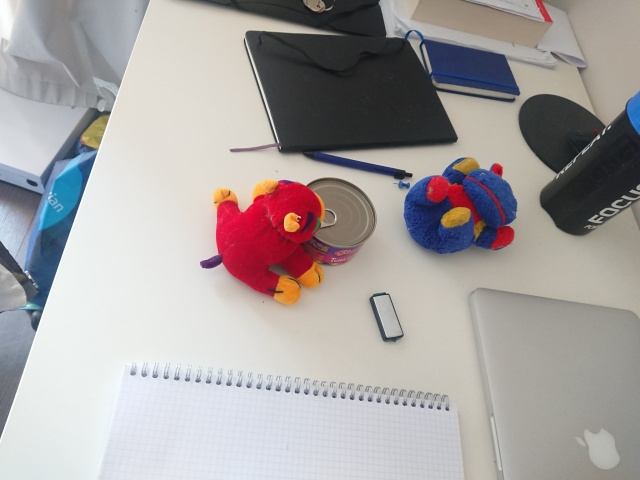Giana Tuna Salad Mexico 185g: (290, 175, 379, 269)
